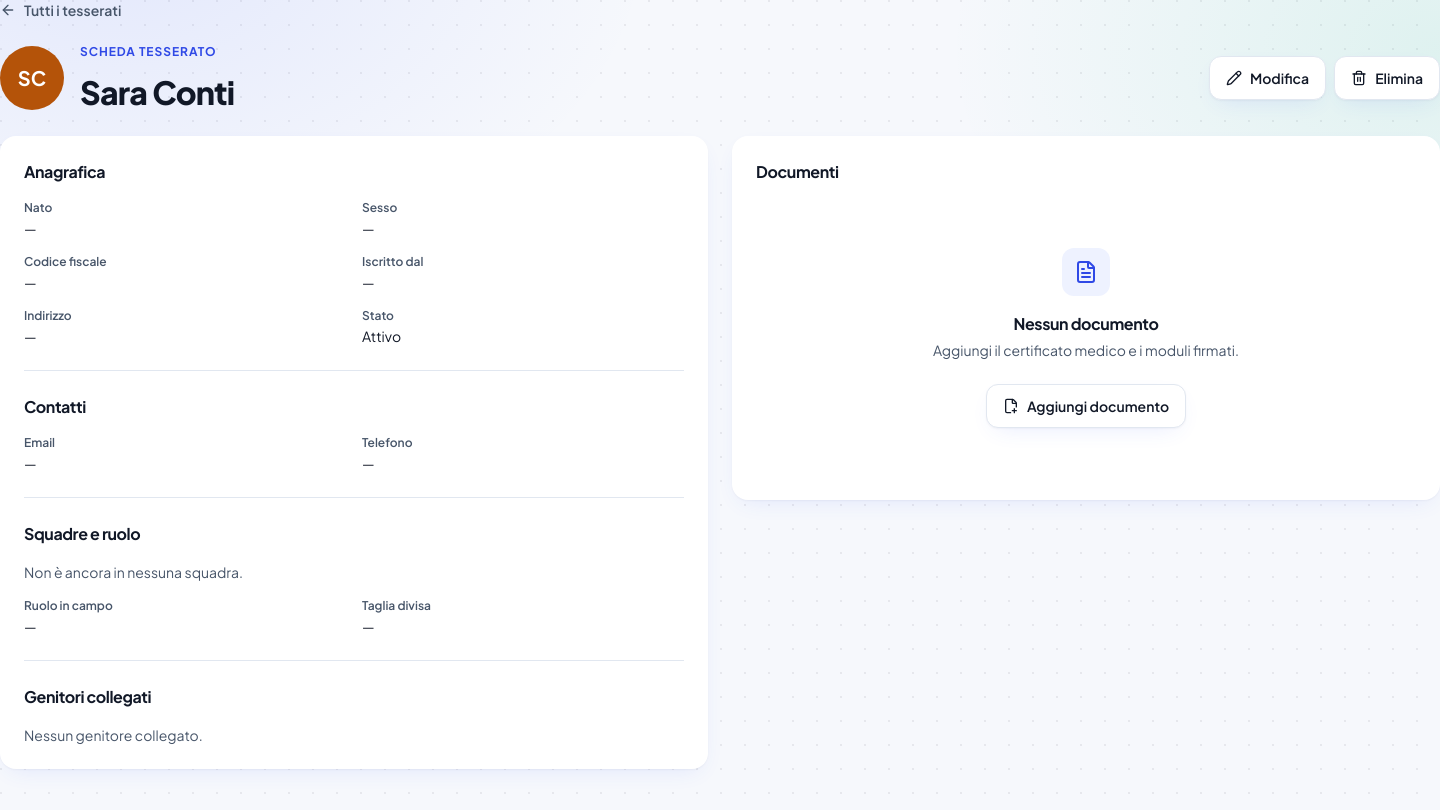
Scenario: MemberDetailPage › offers the add button in the empty state, and only to who can write
Expected: the heading "Nessun documento" is shown, [1014,312,1158,336]
Click the button "Aggiungi documento" at (1086, 406), box [986,384,1186,428]
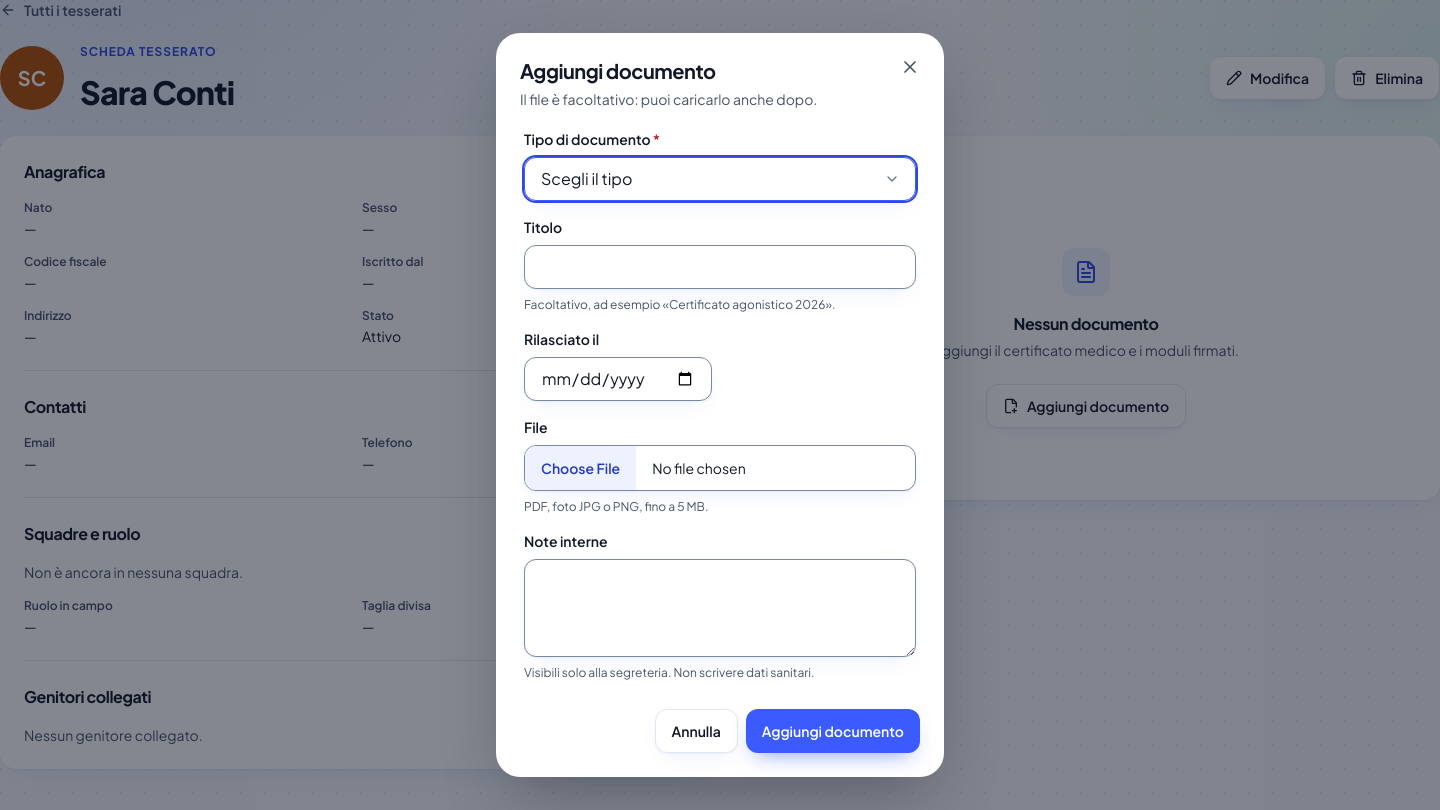
Now the dialog "Aggiungi documento" is shown, box [496,33,944,777]
